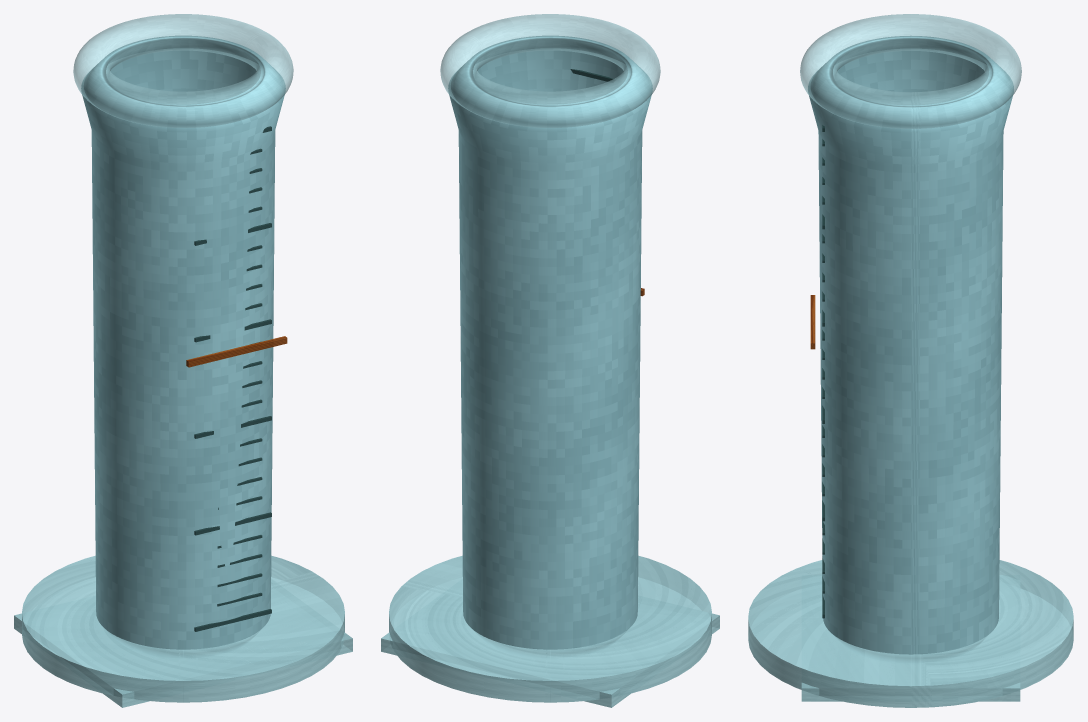
The model's file is alat-01.glb.
3 renders of one model, left to right at view 1: azimuth 30°, elevation 25°; view 2: azimuth 150°, elevation 25°; view 3: azimuth 270°, elevation 25°, orthographic.
Visible parts, largest first — view 1: graduatedCylinder-2, cylinder-0, torus-3, box-1, targetMark-32; view 2: graduatedCylinder-2, cylinder-0, torus-3, box-1; view 3: graduatedCylinder-2, cylinder-0, torus-3, box-1.
Part boxes in pixels (<box>): graduatedCylinder-2: <box>81,35,285,657</box>; cylinder-0: <box>22,555,344,702</box>; torus-3: <box>73,14,293,127</box>; box-1: <box>14,579,352,707</box>; targetMark-32: <box>186,336,287,367</box>; graduatedCylinder-2: <box>448,35,652,657</box>; cylinder-0: <box>389,555,711,702</box>; torus-3: <box>440,14,660,127</box>; box-1: <box>381,579,719,707</box>; graduatedCylinder-2: <box>808,36,1013,662</box>; cylinder-0: <box>748,560,1073,707</box>; torus-3: <box>800,14,1021,128</box>; box-1: <box>801,575,1020,701</box>.
Bounding box in the file's own units: 1.76 × 3.52 × 1.76.
33 materials, 33 textured.
